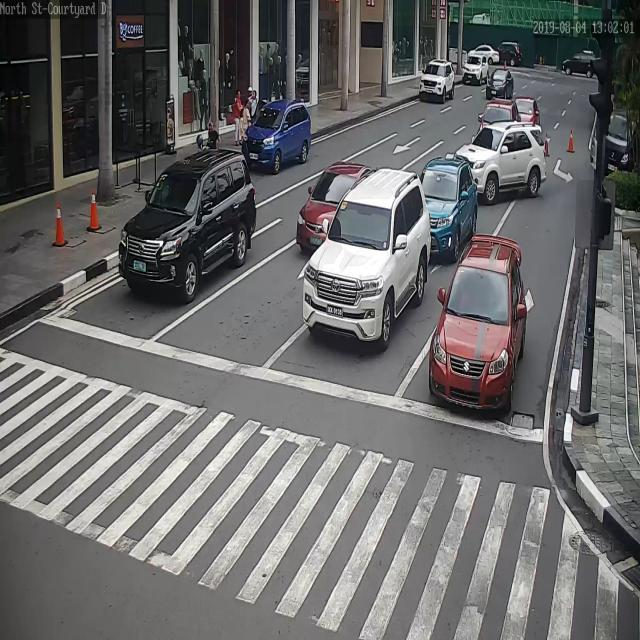car: (302, 169, 431, 352), (118, 147, 255, 303), (428, 234, 528, 412), (453, 124, 547, 205), (295, 164, 372, 254), (421, 158, 479, 267), (243, 99, 313, 175), (418, 59, 454, 104), (477, 100, 520, 132), (560, 52, 601, 78), (485, 68, 516, 100), (461, 51, 489, 84), (513, 98, 541, 125), (497, 41, 521, 66)
jeepney: (197, 121, 222, 151)
van: (604, 110, 640, 178)
